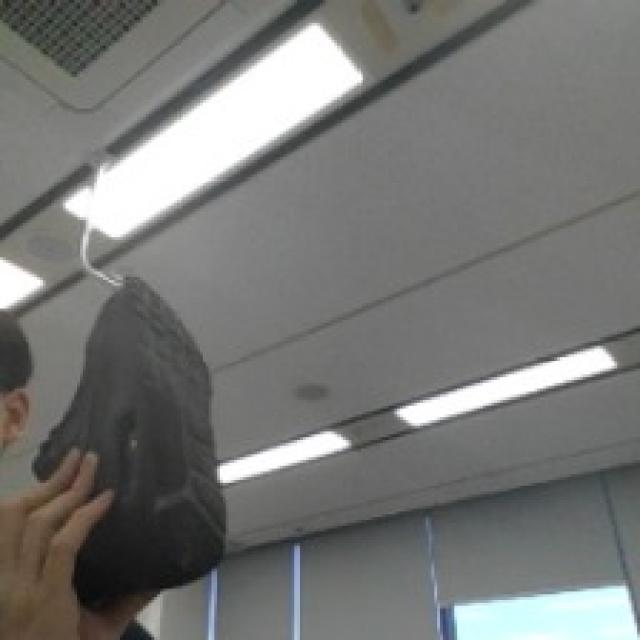shoe: (39, 266, 226, 598)
